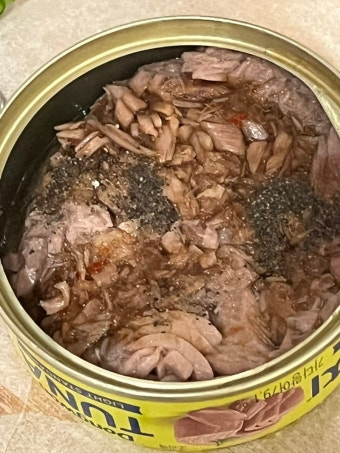paper: (0, 12, 340, 449)
